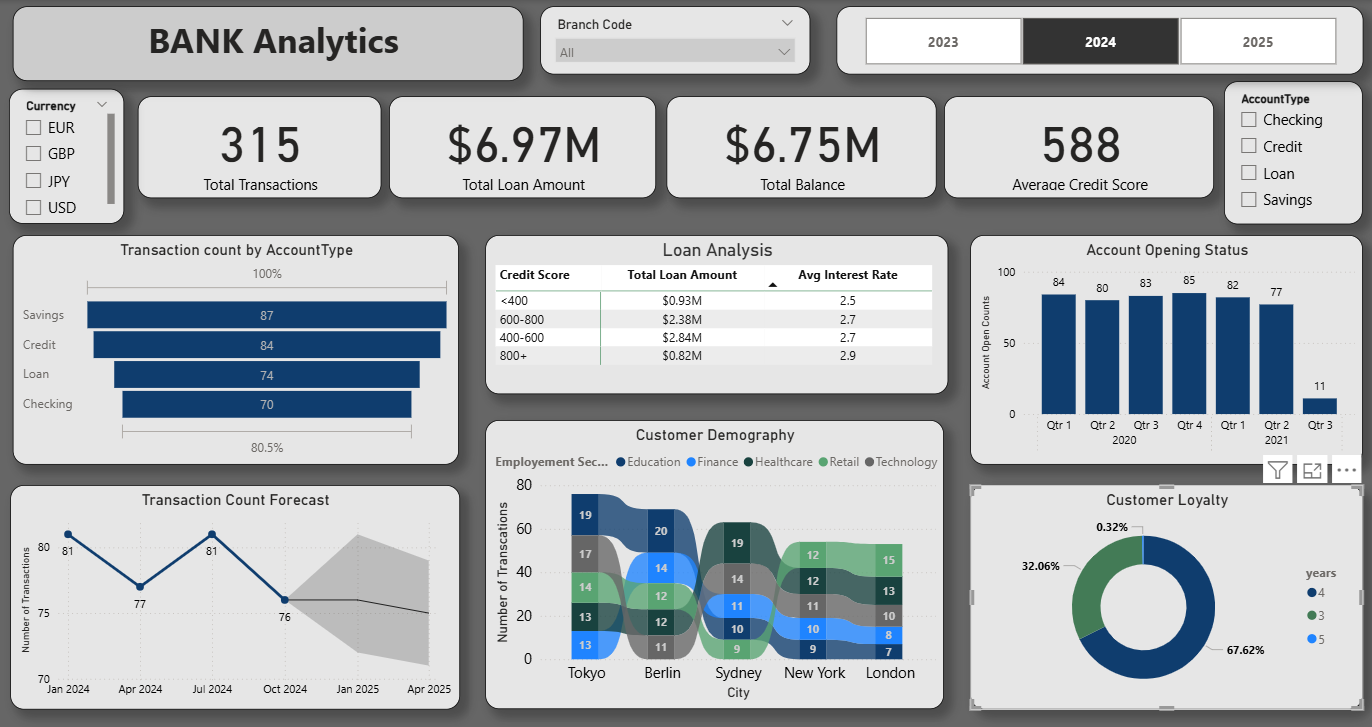

What the dashboard file says about the page in this screenshot:
{"tool":"powerbi","page":{"name":"DASHBOARD","canvas":[1500,800],"ordinal":0},"visuals":[{"type":"card","fields":{"Values":["Count(All Customer Transction.TransactionID)"]},"box":[151.4,104.3,265.7,111.4],"z":0},{"type":"card","fields":{"Values":["Sum(All Customer Transction.Loan Amount(USD))"]},"box":[425.7,104.3,291.4,111.4],"z":1000},{"type":"card","fields":{"Values":["Sum(All Customer Transction.Balance(USD))"]},"box":[727.1,104.3,294.3,111.4],"z":2000},{"type":"card","fields":{"Values":["Avg(All Customer Transction.CreditScore)"]},"box":[1030,104.3,294.3,111.4],"z":3000},{"type":"slicer","fields":{"Values":["All Customer Transction.AccountType"]},"box":[1335.7,88.6,151.4,155.7],"z":4000},{"type":"slicer","fields":{"Values":["All Customer Transction.Currency"]},"box":[11.4,97.1,125.7,147.1],"z":5000},{"type":"slicer","fields":{"Values":["All Customer Transction.BranchCode"]},"box":[590,7.1,294.3,74.3],"z":6000},{"type":"slicer","fields":{"Values":["All Customer Transction.TransactionDate.Variation.Date Hierarchy.Year"]},"box":[912.9,7.1,574.3,74.3],"z":7000},{"type":"lineChart","title":"Transaction Count Forecast","fields":{"Category":["All Customer Transction.TransactionDate.Variation.Date Hierarchy.Year","All Customer Transction.TransactionDate.Variation.Date Hierarchy.Quarter"],"Y":["CountNonNull(All Customer Transction.TransactionID)"]},"box":[11.7,528.3,490,245],"z":8000},{"type":"textbox","box":[15,6.7,556.7,81.7],"z":9000},{"type":"pivotTable","title":"Loan Analysis","fields":{"Rows":["All Customer Transction.Credit Score Range"],"Values":["Sum(All Customer Transction.Loan Amount(USD))","Avg(All Customer Transction.InterestRate)"]},"box":[530,256.7,505,173.3],"z":10000},{"type":"clusteredColumnChart","title":"Account Opening Status","fields":{"Category":["All Customer Transction.OpeningDate.Variation.Date Hierarchy.Year","All Customer Transction.OpeningDate.Variation.Date Hierarchy.Quarter"],"Y":["Count(All Customer Transction.AccountNumber)"]},"box":[1058.3,256.7,428.3,250],"z":11000},{"type":"ribbonChart","title":"Customer Demography","fields":{"Category":["All Customer Transction.City"],"Y":["CountNonNull(All Customer Transction.TransactionID)"],"Series":["All Customer Transction.Employement Sector"]},"box":[530,458.3,500,315],"z":12000},{"type":"funnel","title":"Transaction count by AccountType","fields":{"Category":["All Customer Transction.AccountType"],"Y":["CountNonNull(All Customer Transction.TransactionID)"]},"box":[15,256.7,486.7,250],"z":13000},{"type":"donutChart","title":"Customer Loyalty","fields":{"Y":["Count(All Customer Transction.AccountNumber)"],"Category":["All Customer Transction.Customer(year)"]},"box":[1058.3,528.3,428.3,245],"z":14000}]}

Visuals, with their boxes in screenshot pixels (x1, y1, x2, y2), scaled from the page's 1500x800 canvas onto the 1372x727 screenshot:
card - Count(All Customer Transction.TransactionID): {"x1": 138, "y1": 95, "x2": 382, "y2": 196}
card - Sum(All Customer Transction.Loan Amount(USD)): {"x1": 389, "y1": 95, "x2": 656, "y2": 196}
card - Sum(All Customer Transction.Balance(USD)): {"x1": 665, "y1": 95, "x2": 934, "y2": 196}
card - Avg(All Customer Transction.CreditScore): {"x1": 942, "y1": 95, "x2": 1211, "y2": 196}
slicer - All Customer Transction.AccountType: {"x1": 1222, "y1": 81, "x2": 1360, "y2": 222}
slicer - All Customer Transction.Currency: {"x1": 10, "y1": 88, "x2": 125, "y2": 222}
slicer - All Customer Transction.BranchCode: {"x1": 540, "y1": 6, "x2": 809, "y2": 74}
slicer - All Customer Transction.TransactionDate.Variation.Date Hierarchy.Year: {"x1": 835, "y1": 6, "x2": 1360, "y2": 74}
"Transaction Count Forecast" lineChart: {"x1": 11, "y1": 480, "x2": 459, "y2": 703}
textbox: {"x1": 14, "y1": 6, "x2": 523, "y2": 80}
"Loan Analysis" pivotTable: {"x1": 485, "y1": 233, "x2": 947, "y2": 391}
"Account Opening Status" clusteredColumnChart: {"x1": 968, "y1": 233, "x2": 1360, "y2": 460}
"Customer Demography" ribbonChart: {"x1": 485, "y1": 416, "x2": 942, "y2": 703}
"Transaction count by AccountType" funnel: {"x1": 14, "y1": 233, "x2": 459, "y2": 460}
"Customer Loyalty" donutChart: {"x1": 968, "y1": 480, "x2": 1360, "y2": 703}
